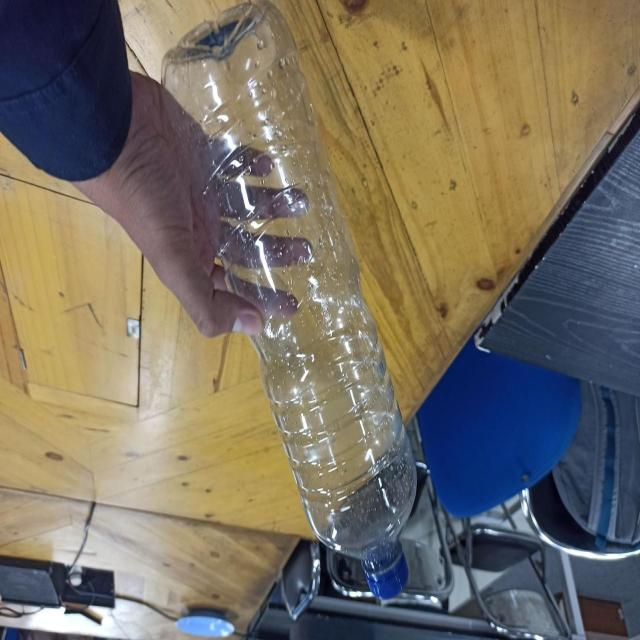BotolPlastik: (159, 2, 418, 602)
